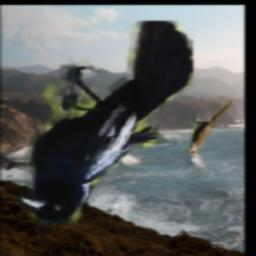Crow: (18, 22, 193, 226)
Cuckoo: (187, 100, 233, 155)
